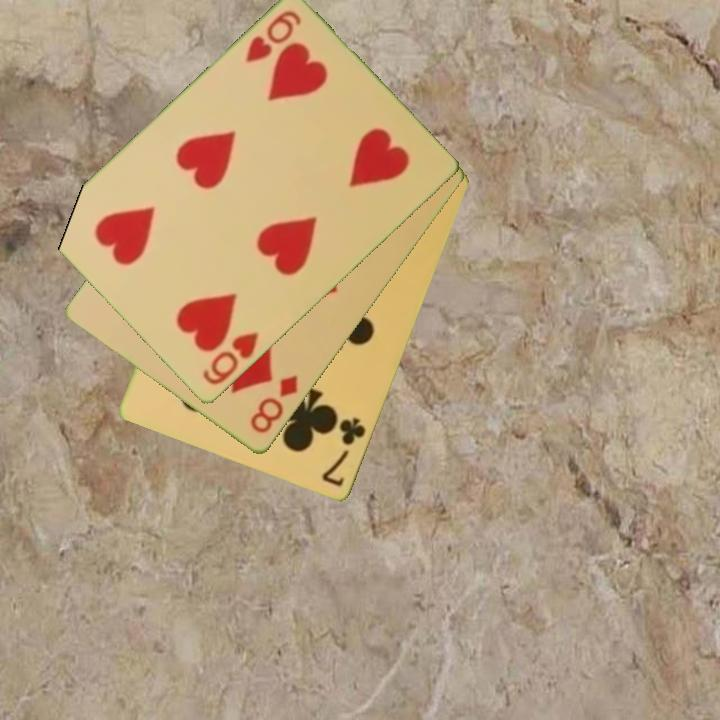6h: (199, 329, 262, 389), (242, 7, 305, 66)
7c: (318, 414, 369, 491)
8d: (246, 372, 301, 437)
